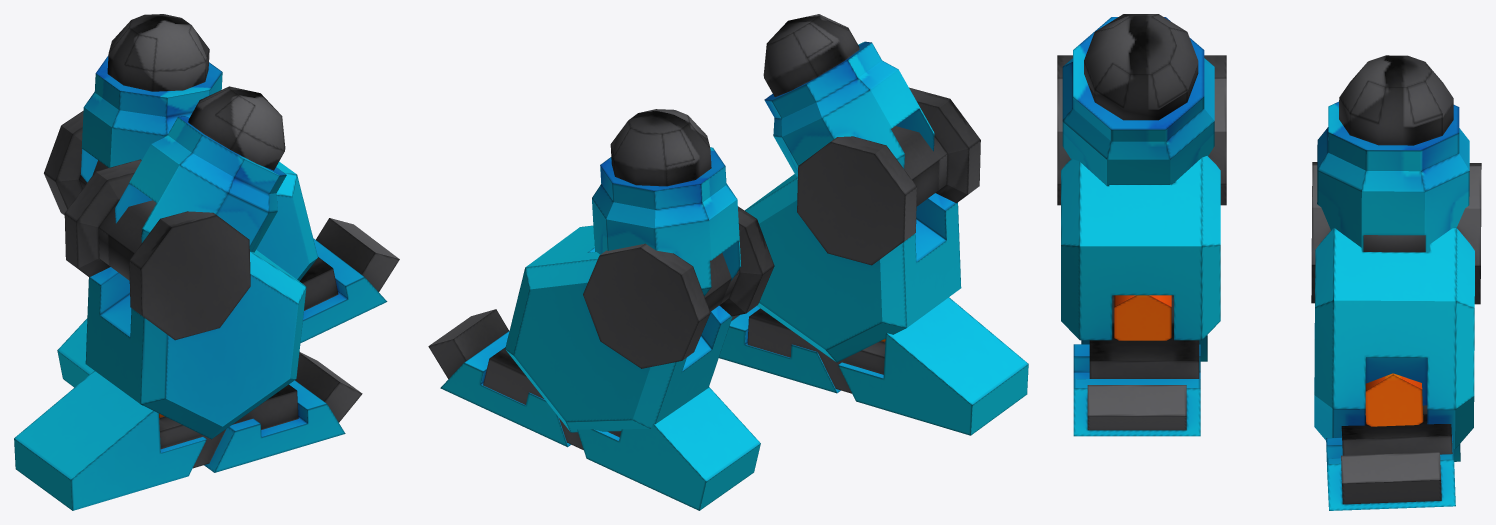
File: Bottom_Idle19.obj
3 views of the same model, side by side, from view 1: azimuth 30°, elevation 25°; view 2: azimuth 150°, elevation 25°; view 3: azimuth 270°, elevation 25° (orthographic). The views are drawn at different scales.
Visible parts, largest first — view 1: Object013, Object014, Object012, Object009, Object011, Object010; view 2: Object013, Object010, Object014, Object011, Object009, Object012; view 3: Object010, Object013, Object009, Object012, Object014, Object011.
Part boxes in pixels (x1,y1,x2,y2): Object013: [64, 159, 306, 439]; Object014: [14, 352, 362, 510]; Object012: [115, 86, 286, 252]; Object009: [80, 14, 222, 182]; Object011: [57, 218, 399, 387]; Object010: [44, 110, 317, 281]; Object013: [745, 87, 980, 362]; Object010: [505, 206, 774, 432]; Object014: [719, 297, 1028, 435]; Object011: [428, 309, 760, 510]; Object009: [592, 109, 740, 295]; Object012: [763, 14, 934, 176]; Object010: [1311, 162, 1481, 449]; Object013: [1057, 55, 1226, 340]; Object009: [1317, 55, 1469, 252]; Object012: [1062, 14, 1214, 186]; Object014: [1073, 295, 1207, 436]; Object011: [1326, 373, 1460, 510].
Bounding box in the file's own units: 127 × 106 × 94.65.
